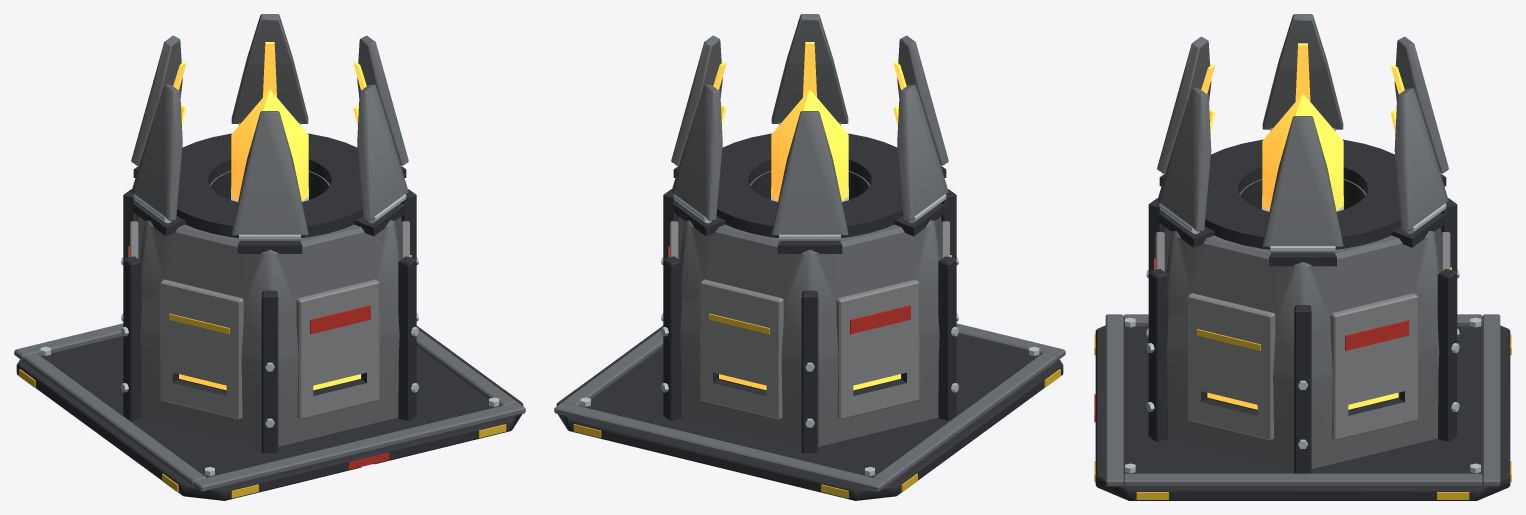
The model's file is R4M_Blink.glb.
The picture shows the model from 3 angles, left to right: view 1: azimuth 30°, elevation 25°; view 2: azimuth 150°, elevation 25°; view 3: azimuth 270°, elevation 25°; orthographic projection. The views are drawn at different scales.
Visible parts, largest first — view 1: R4M_Blink_Housing, R4M_Blink_Petal_5, R4M_Blink_Petal_4, R4M_Blink_Petal_6, R4M_Blink_Petal_2, R4M_Blink_Crystal, R4M_Blink_Petal_1, R4M_Blink_Petal_3; view 2: R4M_Blink_Housing, R4M_Blink_Petal_3, R4M_Blink_Petal_2, R4M_Blink_Petal_4, R4M_Blink_Petal_6, R4M_Blink_Crystal, R4M_Blink_Petal_1, R4M_Blink_Petal_5; view 3: R4M_Blink_Housing, R4M_Blink_Petal_1, R4M_Blink_Petal_2, R4M_Blink_Petal_6, R4M_Blink_Petal_4, R4M_Blink_Crystal, R4M_Blink_Petal_3, R4M_Blink_Petal_5.
Part boxes in pixels (x1,y1,x2,y2): R4M_Blink_Housing: (14, 133, 525, 500); R4M_Blink_Petal_5: (231, 111, 308, 240); R4M_Blink_Petal_4: (131, 84, 186, 223); R4M_Blink_Petal_6: (353, 84, 408, 223); R4M_Blink_Petal_2: (231, 14, 308, 125); R4M_Blink_Crystal: (231, 90, 308, 201); R4M_Blink_Petal_1: (353, 35, 408, 166); R4M_Blink_Petal_3: (131, 35, 186, 166); R4M_Blink_Housing: (554, 133, 1065, 500); R4M_Blink_Petal_3: (771, 111, 848, 240); R4M_Blink_Petal_2: (671, 84, 726, 223); R4M_Blink_Petal_4: (893, 84, 948, 223); R4M_Blink_Petal_6: (771, 14, 848, 125); R4M_Blink_Crystal: (771, 90, 848, 201); R4M_Blink_Petal_1: (671, 35, 726, 166); R4M_Blink_Petal_5: (893, 35, 948, 166); R4M_Blink_Housing: (1094, 139, 1511, 500); R4M_Blink_Petal_1: (1262, 116, 1343, 252); R4M_Blink_Petal_2: (1391, 88, 1448, 233); R4M_Blink_Petal_6: (1157, 88, 1214, 233); R4M_Blink_Petal_4: (1262, 14, 1343, 131); R4M_Blink_Crystal: (1262, 93, 1343, 211); R4M_Blink_Petal_3: (1390, 36, 1448, 174); R4M_Blink_Petal_5: (1157, 36, 1215, 174).
Size of the model in its own units: 0.5126 by 0.4725 by 0.5126.
